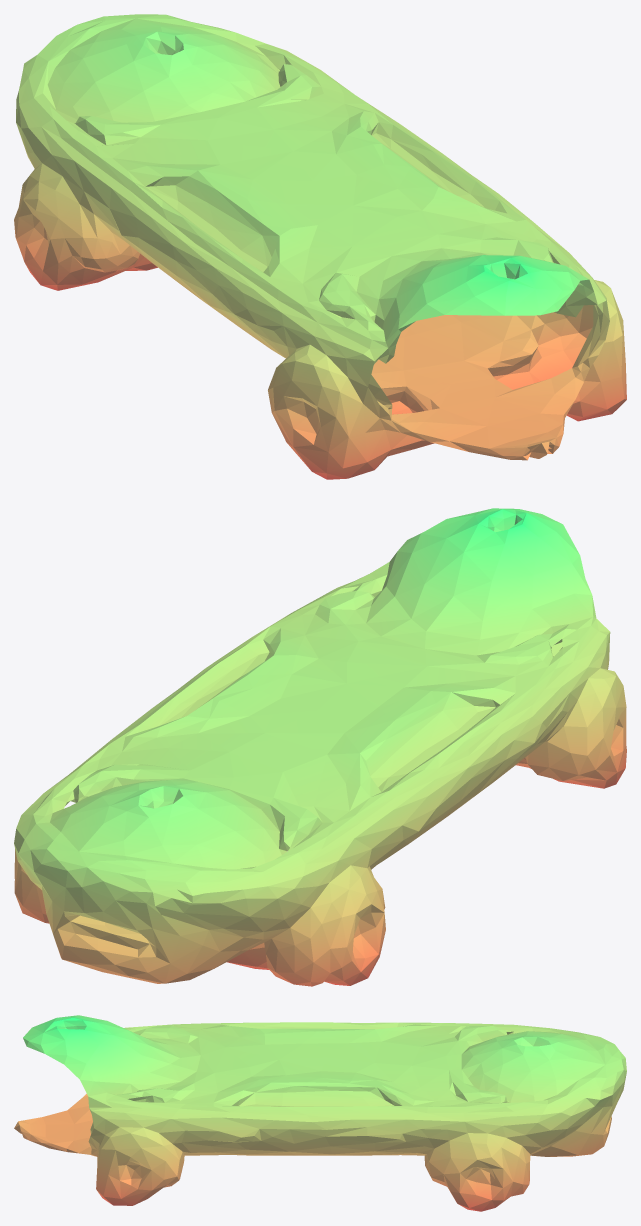
File: 52_cyb_laser_gradient_fish_scales_2829_2026_10_03_188ad0.glb
The picture shows the model from 3 angles, top to bottom: view 1: azimuth 30°, elevation 25°; view 2: azimuth 150°, elevation 25°; view 3: azimuth 270°, elevation 25°; orthographic projection. The views are drawn at different scales.
Visible parts, largest first — view 1: geometry_0; view 2: geometry_0; view 3: geometry_0.
Part boxes in pixels (x1=…): geometry_0: x1=14, y1=14, x2=626, y2=479; geometry_0: x1=14, y1=508, x2=626, y2=986; geometry_0: x1=14, y1=1015, x2=626, y2=1211.
Bounding box in the file's own units: 0.4255 × 0.2458 × 0.9955.
